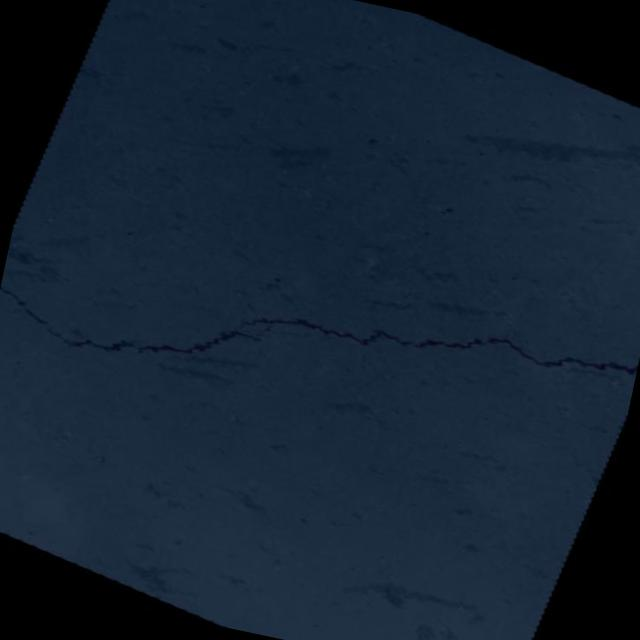crack: (0, 102, 640, 563)
